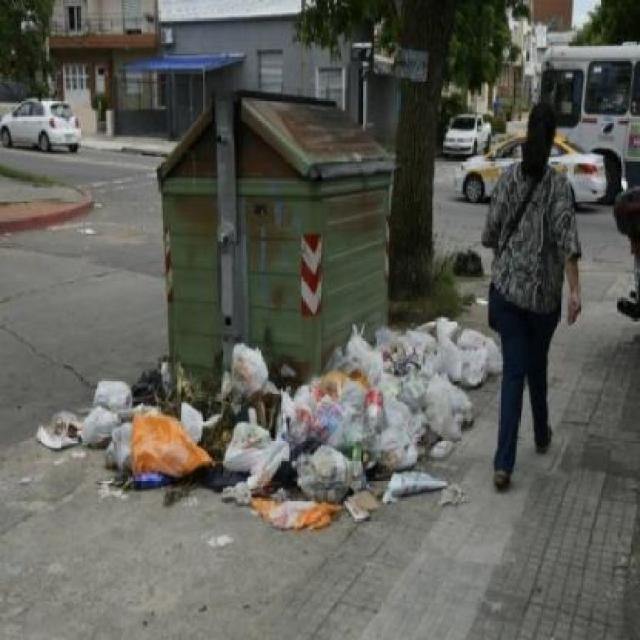garbage: (111, 373, 334, 509), (355, 334, 447, 500), (85, 374, 156, 507), (372, 309, 494, 382), (309, 351, 366, 499), (394, 328, 459, 429), (32, 403, 103, 472), (446, 239, 480, 295)
